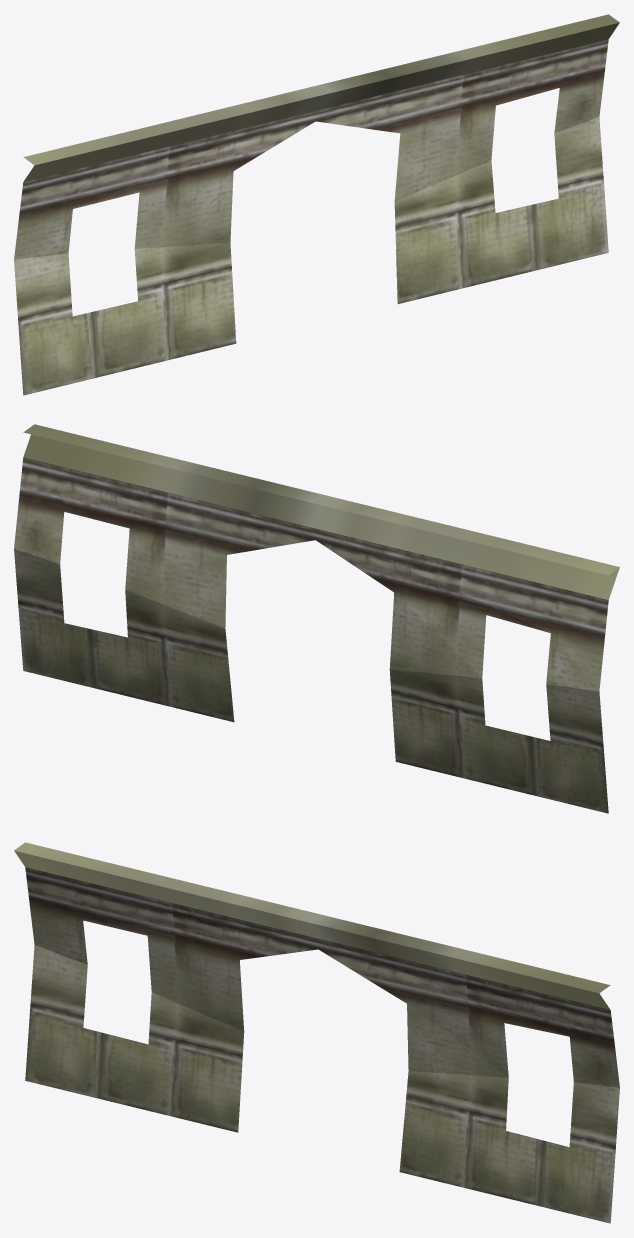
The model's file is W_A3_fOf [GelbesMarmor]_2193.glb.
3 views of the same model, one above another, from view 1: azimuth 30°, elevation 25°; view 2: azimuth 150°, elevation 25°; view 3: azimuth 330°, elevation 25° (orthographic).
Visible parts, largest first — view 1: polySurfaceShape767, polySurfaceShape1054; view 2: polySurfaceShape767, polySurfaceShape1054; view 3: polySurfaceShape767, polySurfaceShape1054.
Part boxes in pixels (x1,y1,x2,y2): polySurfaceShape767: (14,39,608,395); polySurfaceShape1054: (23,14,619,181); polySurfaceShape767: (14,457,608,813); polySurfaceShape1054: (23,424,619,599); polySurfaceShape767: (25,867,619,1223); polySurfaceShape1054: (14,842,610,1009).
Size of the model in its own units: 1 by 0.3891 by 0.0607.
Materials: 2 (2 with a texture image).
